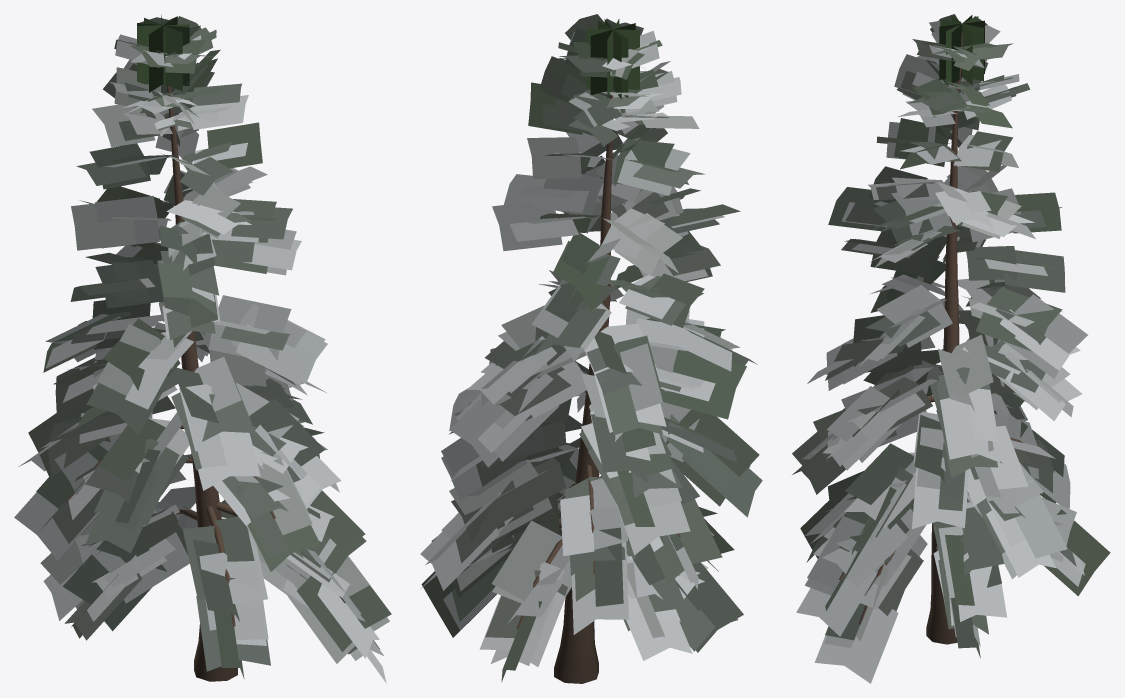
File: conifer.pine_tall.snow.glb
3 renders of one model, left to right at view 1: azimuth 30°, elevation 25°; view 2: azimuth 150°, elevation 25°; view 3: azimuth 270°, elevation 25°, orthographic. The views are drawn at different scales.
Visible parts, largest first — view 1: conifer_pine_tall_snow; view 2: conifer_pine_tall_snow; view 3: conifer_pine_tall_snow.
Part boxes in pixels (box(x1,y1,x2,y2)): conifer_pine_tall_snow: box(14, 15, 391, 683); conifer_pine_tall_snow: box(420, 14, 762, 683); conifer_pine_tall_snow: box(792, 14, 1110, 683).
Size of what is drawn, in the model's own units: 5.48 by 11.11 by 5.42.
